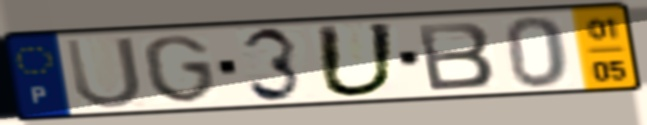0: (500, 13, 571, 90)
3: (237, 25, 311, 104)
B: (412, 19, 498, 93)
G: (140, 32, 221, 105)
U: (313, 20, 402, 100), (61, 33, 147, 111)
